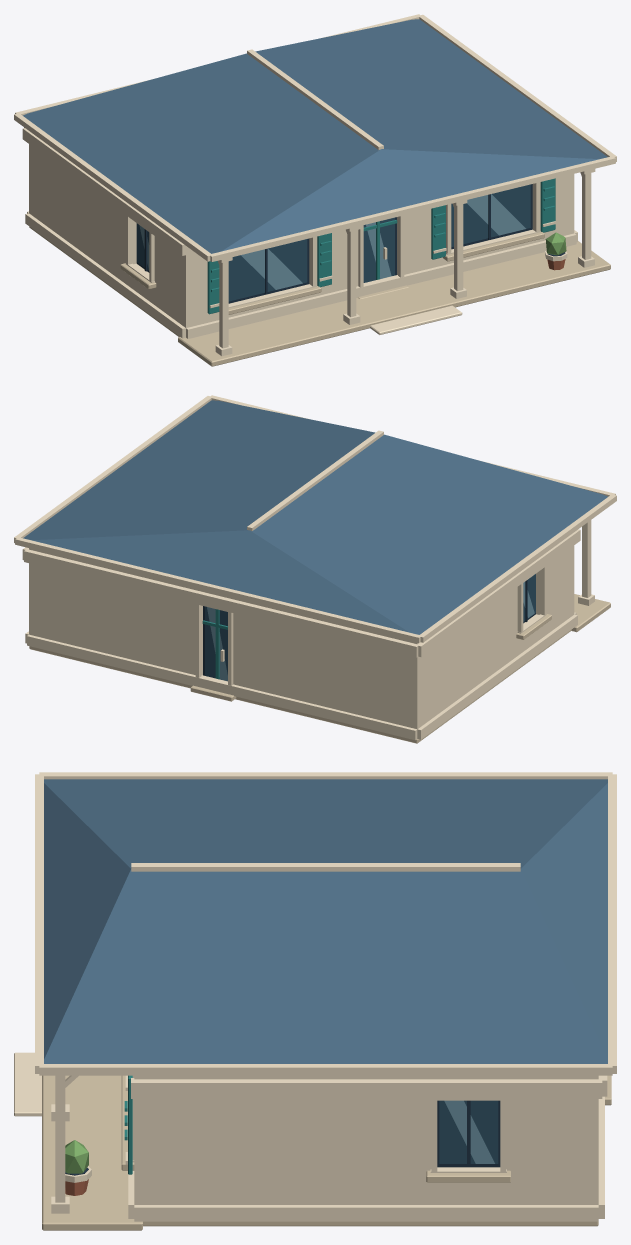
Rendered from terrace_bungalow.glb.
3 views of the same model, one above another, from view 1: azimuth 30°, elevation 25°; view 2: azimuth 150°, elevation 25°; view 3: azimuth 270°, elevation 25° (orthographic). The views are drawn at different scales.
Parts seen in each view (by area): view 1: TerraceBungalow_StaticMesh; view 2: TerraceBungalow_StaticMesh; view 3: TerraceBungalow_StaticMesh.
Boxes of the visible parts, x1=… form: TerraceBungalow_StaticMesh: x1=14, y1=14, x2=616, y2=366; TerraceBungalow_StaticMesh: x1=14, y1=395, x2=616, y2=743; TerraceBungalow_StaticMesh: x1=14, y1=772, x2=616, y2=1230.
Bounding box in the file's own units: 12.64 × 4.43 × 10.91.
